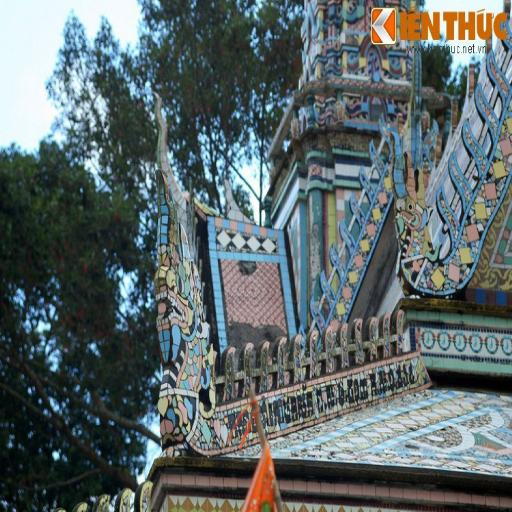lua: (273, 334, 290, 385), (240, 340, 255, 397), (367, 139, 388, 179), (222, 346, 236, 404), (328, 242, 348, 282), (257, 337, 271, 394), (318, 270, 339, 308), (379, 109, 394, 157), (359, 164, 376, 204), (308, 328, 321, 380), (395, 309, 409, 356), (293, 331, 304, 385), (348, 193, 366, 226), (381, 310, 393, 357), (340, 217, 355, 253), (324, 323, 334, 376), (367, 314, 378, 361), (309, 296, 325, 328), (354, 314, 364, 364), (340, 321, 350, 370)
ran: (386, 121, 506, 306), (152, 226, 210, 452)
